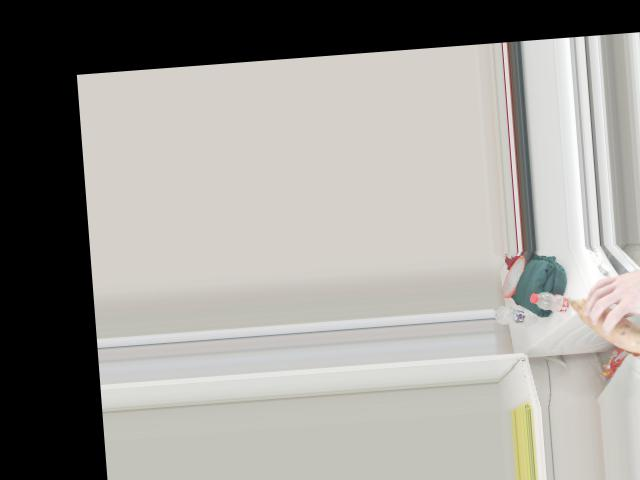sweet_potato: (571, 279, 636, 355)
